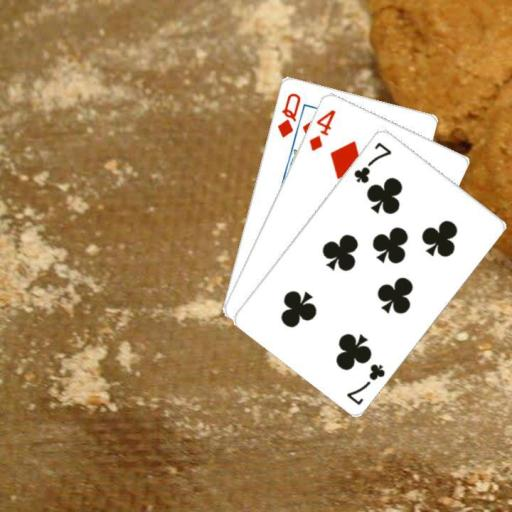4D: (305, 106, 337, 152)
7C: (343, 360, 387, 407), (350, 138, 393, 185)
QD: (274, 89, 302, 139)
